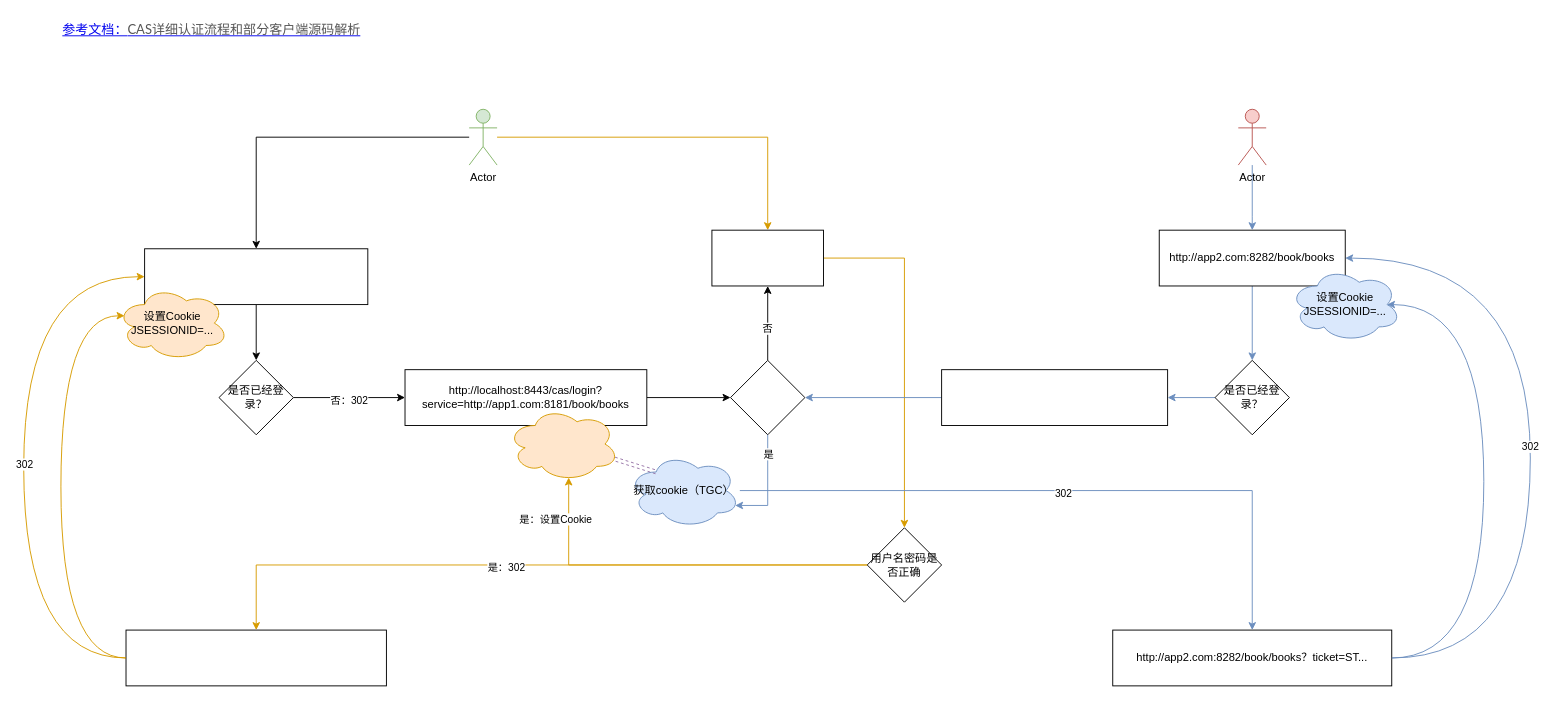
Image size: 1554x702. Some labels were removed from this diagram. The shapes that lost their labels are listed below. From the top down, each one's centre as x and y in pixels, then its label:
[256,276]: http://app1.com:8181/book/books
[767,257]: 输入用户名密码页面
[767,397]: Cookie是否存在？（是否已经登录）
[1054,397]: http://localhost:8443/cas/login?service=http://app2.com:8282/book/books
[562,443]: 设置Cookie TGC=....
[255,657]: http://app1.com:8181/book/books?ticket=ST....
